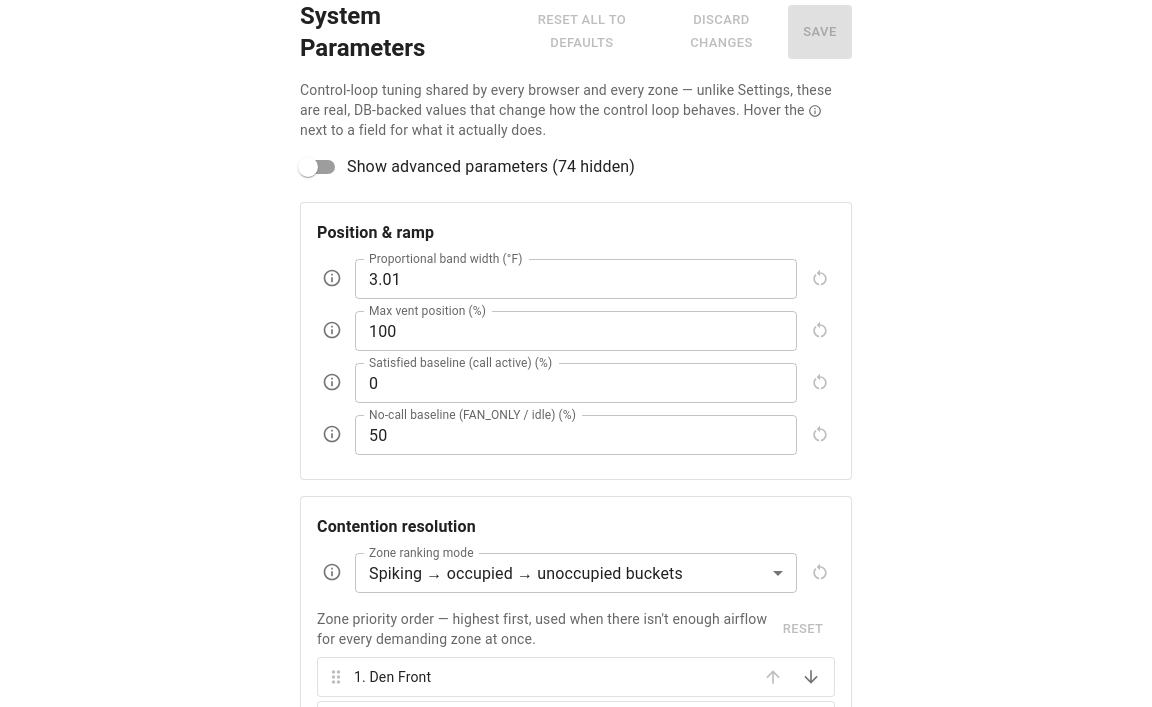
Test: SystemParametersPage › zone priority order › Reset all to defaults also reverts the zone priority order
Expected: the text "1. Den Front" is shown, [354, 669, 431, 685]
Step 1. Click the button named "Move Den Front down" → click(811, 677), box [796, 662, 826, 692]
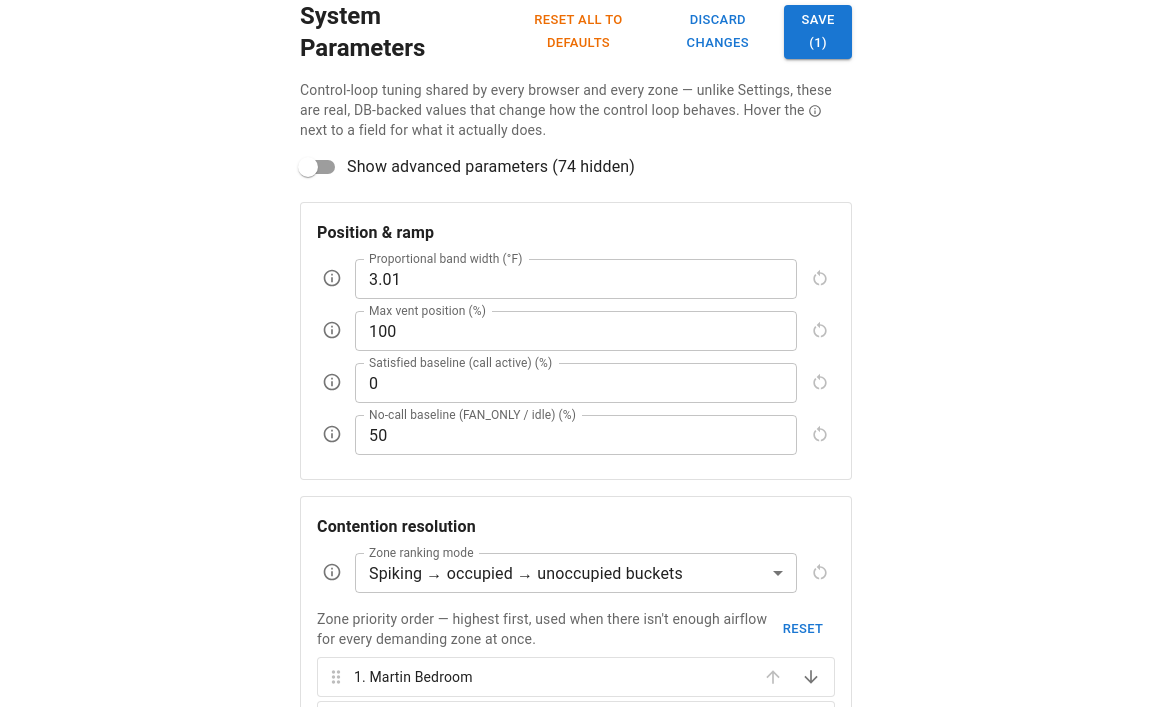
Step 2. Click the button "Reset all to defaults" → click(578, 32), box [506, 5, 651, 59]
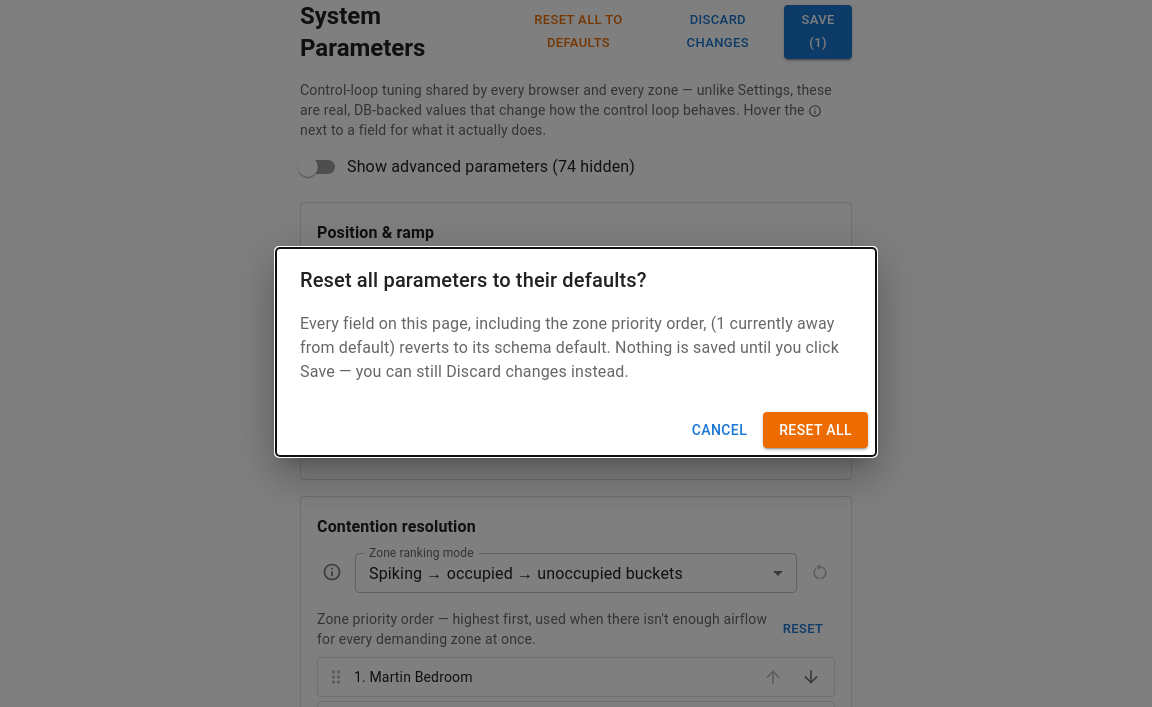
Step 3. Click the button "Reset all" → click(816, 430), box [763, 412, 868, 448]
(page scrolled)
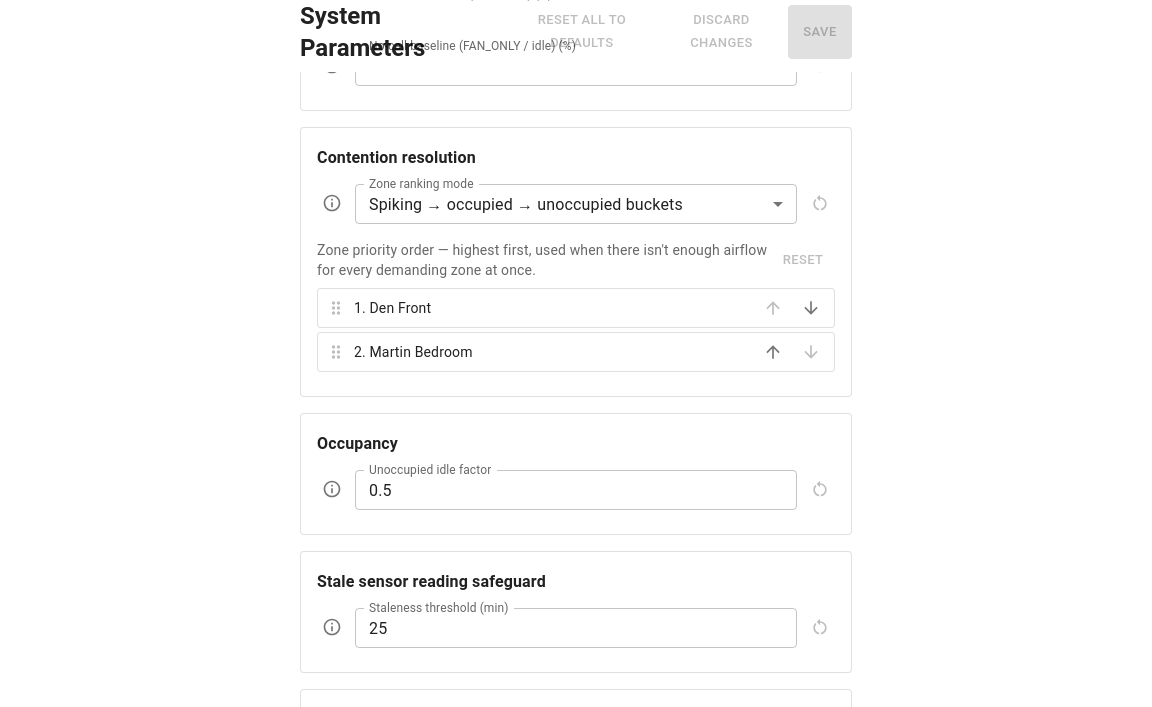
Expected: the heading "Reset all parameters to their defaults?" is gone
Expected: the text "1. Den Front" is shown, [354, 300, 431, 316]
Expected: the text "2. Martin Bedroom" is shown, [354, 344, 473, 360]
